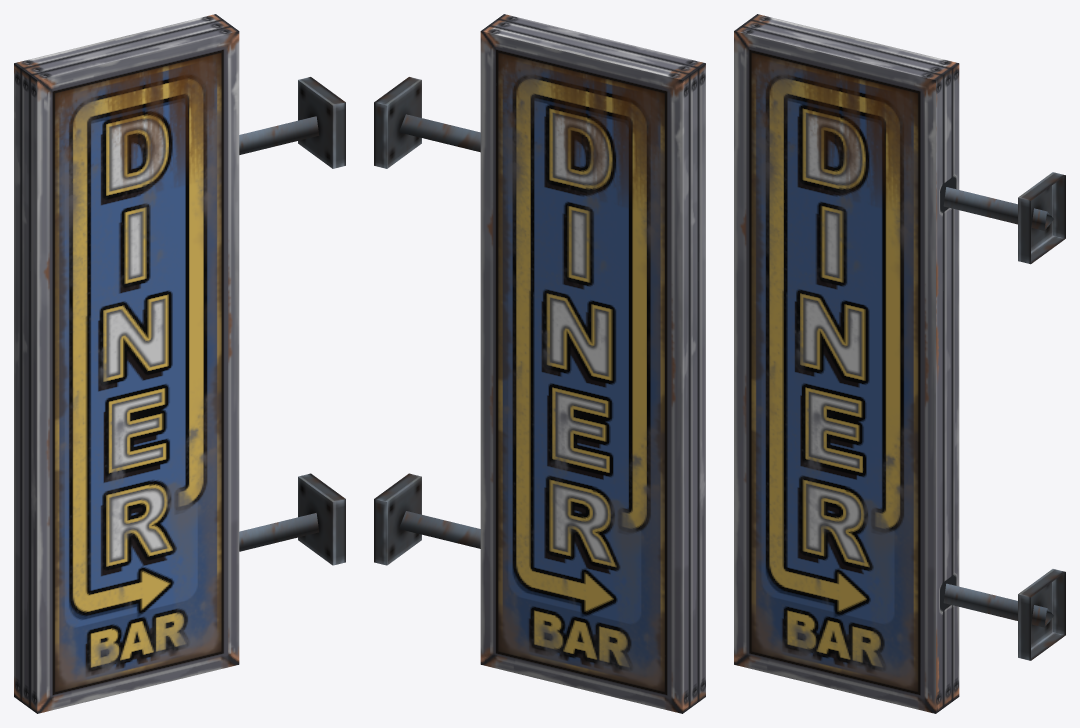
The model's file is signage01_V.fbx.
3 views of the same model, side by side, from view 1: azimuth 30°, elevation 25°; view 2: azimuth 150°, elevation 25°; view 3: azimuth 330°, elevation 25° (orthographic).
Visible parts, largest first — view 1: signage01_V; view 2: signage01_V; view 3: signage01_V.
Boxes of the visible parts, x1=… form: signage01_V: x1=14, y1=14, x2=345, y2=713; signage01_V: x1=374, y1=14, x2=705, y2=713; signage01_V: x1=734, y1=14, x2=1065, y2=713.
Bounding box in the file's own units: 150 × 300 × 30.02.
